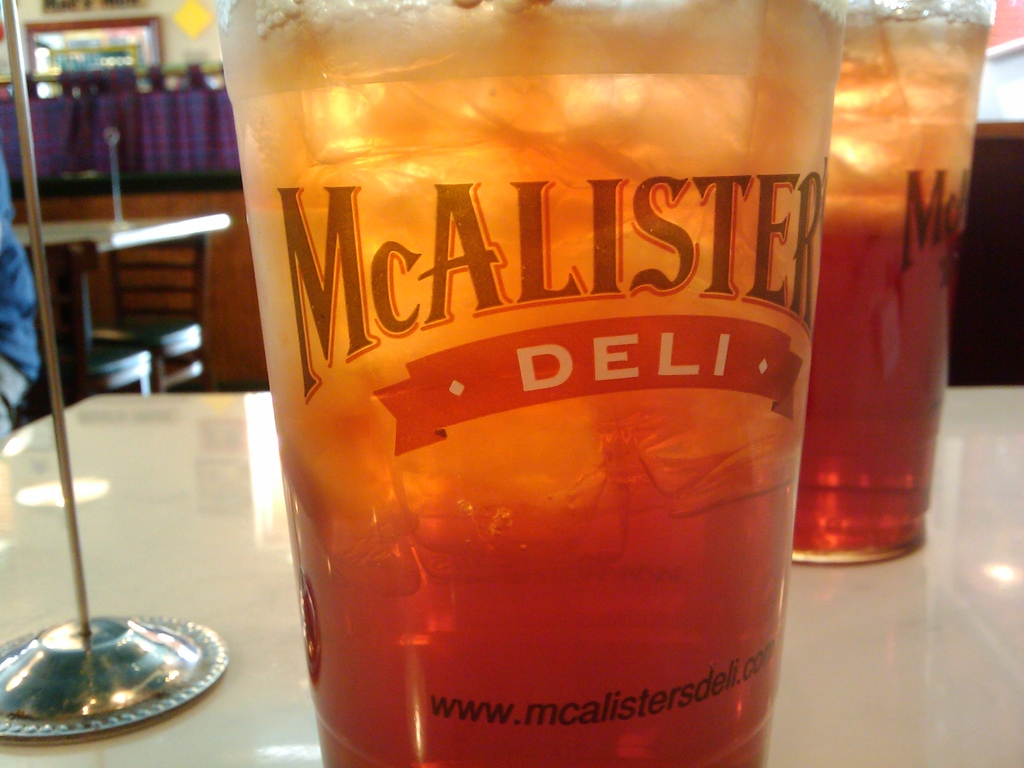Beer: (213, 0, 848, 768), (792, 0, 996, 563)
